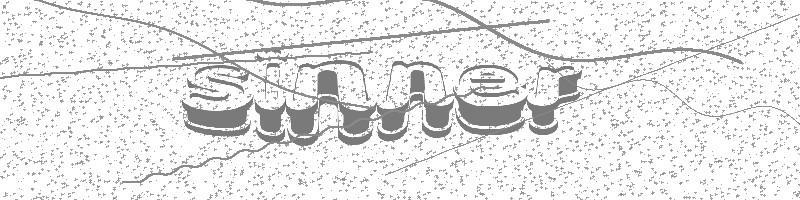e: (455, 63, 528, 136)
l: (255, 61, 288, 144)
n: (286, 59, 377, 147), (378, 59, 454, 143)
r: (527, 65, 581, 136)
s: (181, 63, 254, 138)
